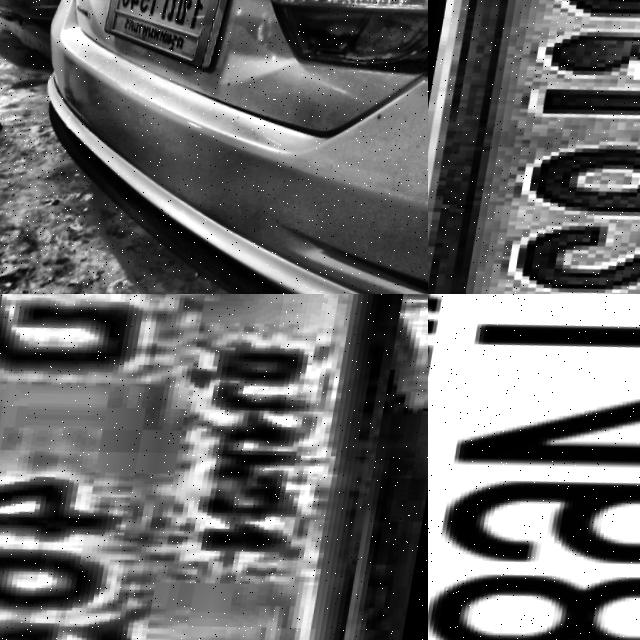license-plate: (0, 294, 428, 640), (428, 294, 640, 640), (428, 0, 640, 294), (166, 16, 287, 91)
